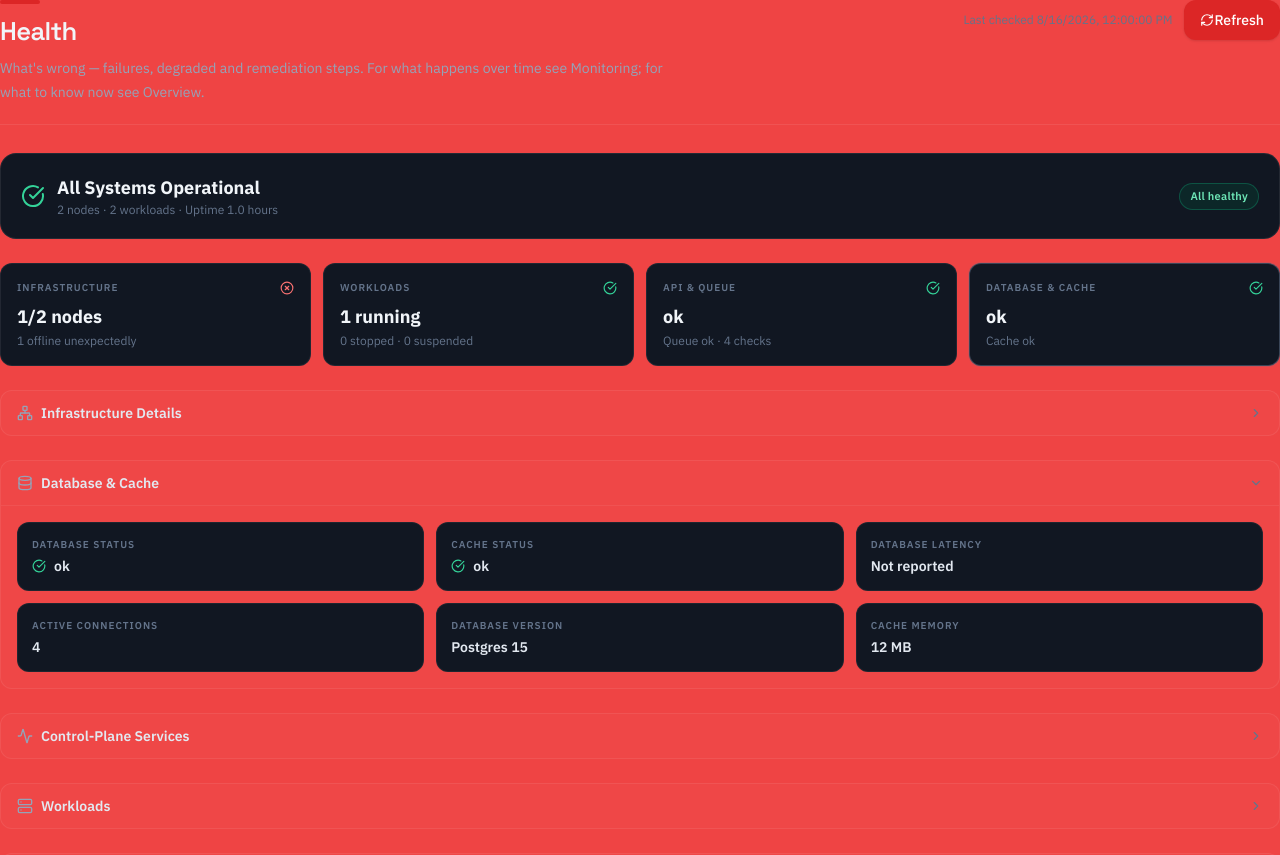
it: AdminHealth — health checks › shows database & cache and control plane metric tiles
The width and height of the screenshot is (1280, 855).
Expected: the text "Database Latency" is shown, [871,538,982,551]
Expected: the text "Control-Plane Services" is shown, [17,726,190,746]
Open control-plane section to see system details
What coordinates should you click on to do the following:
click the button "Control-Plane Services"
I would click on:
 (115, 736)
Its box is [1,714,1279,758].
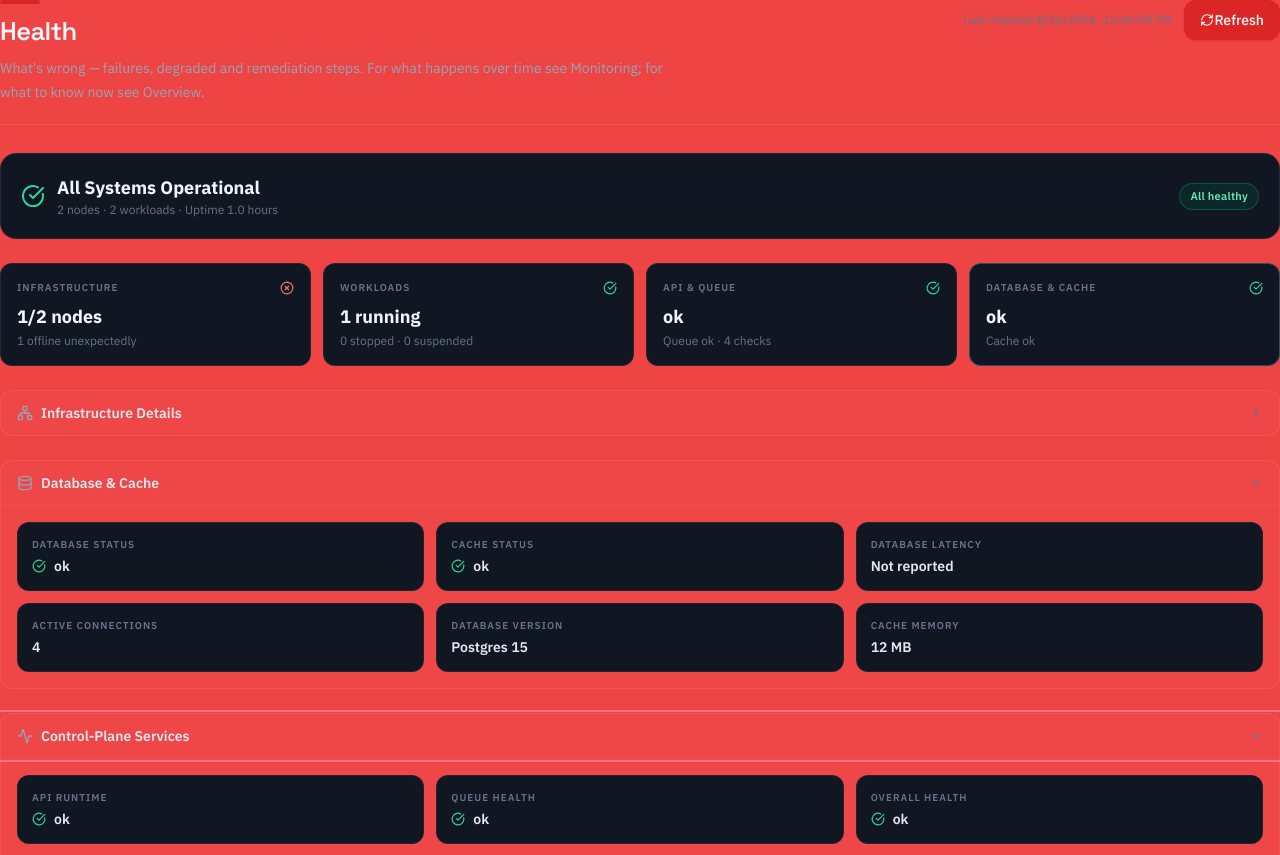
Result: the text "API Runtime" is shown at [32,791,108,804]
Result: the text "Queue Health" is shown at [451,791,536,804]
